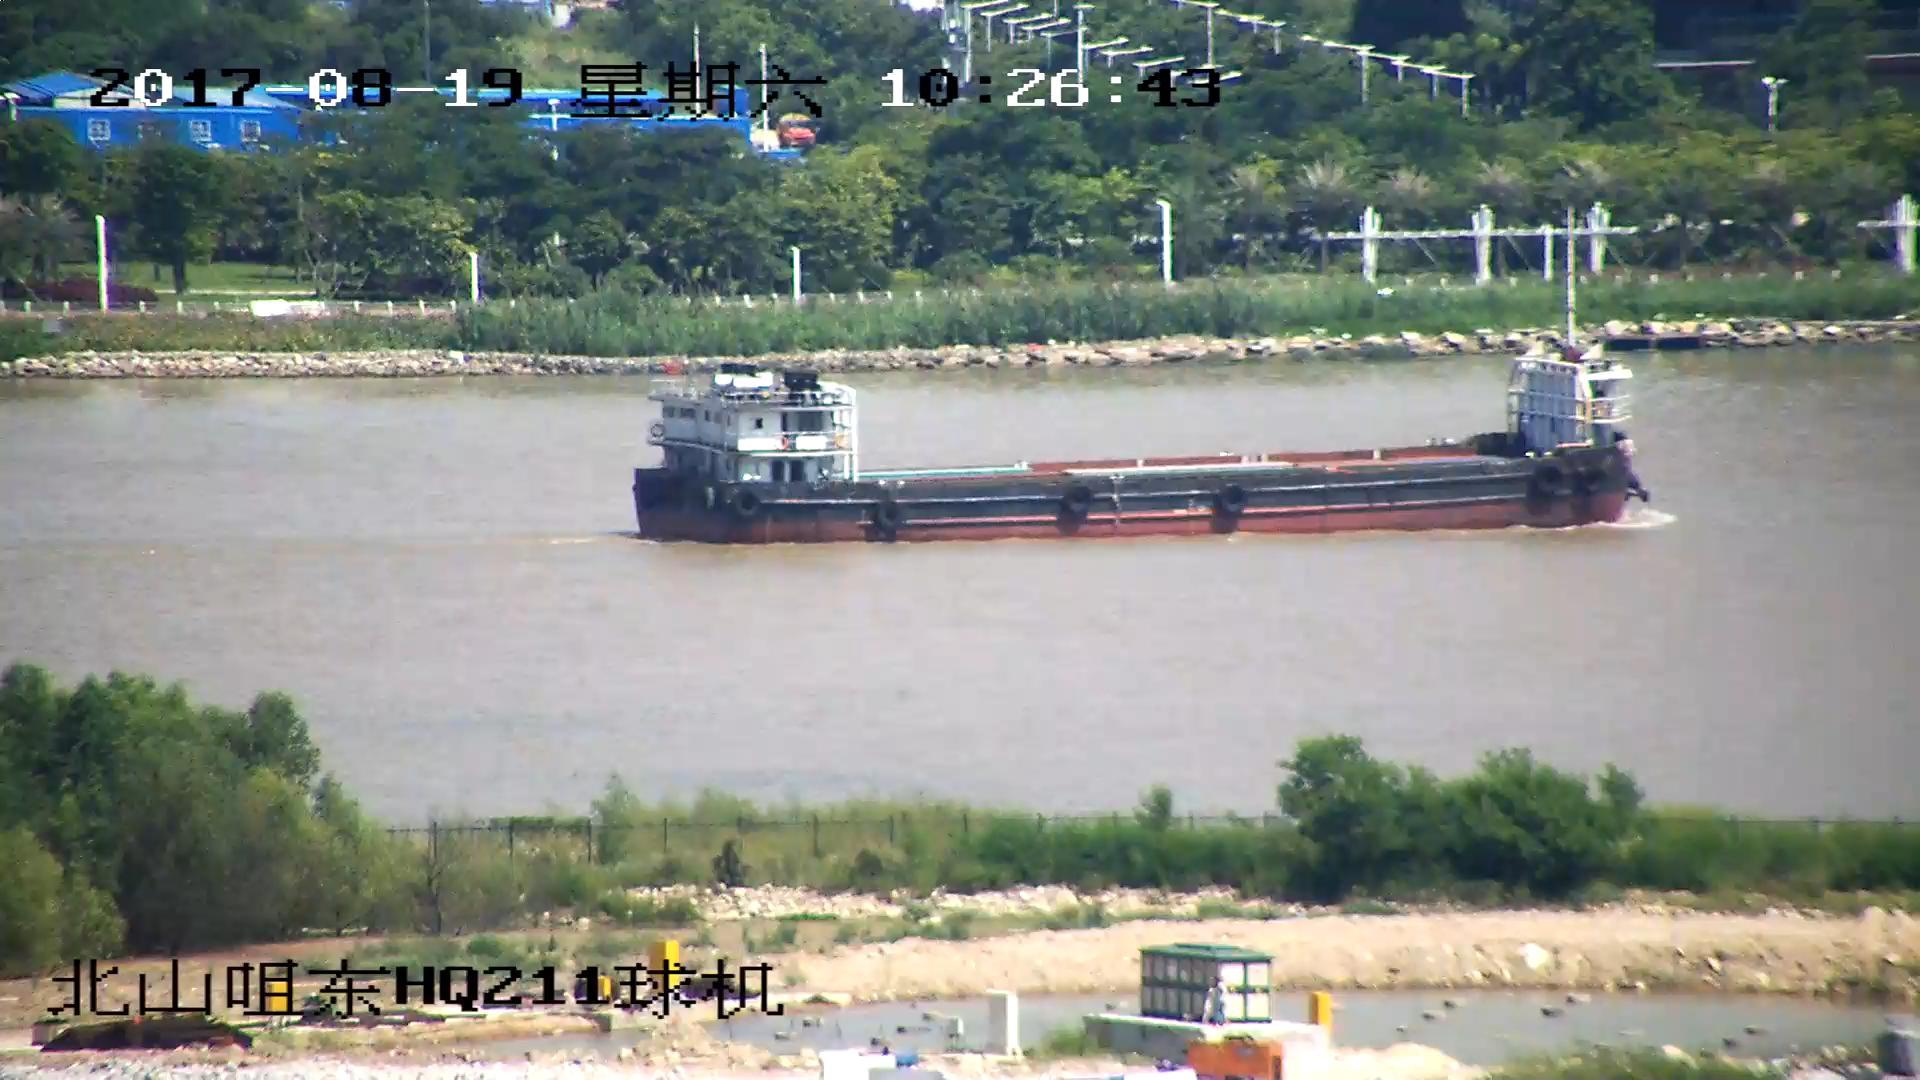Ship: (632, 357, 1650, 538)
